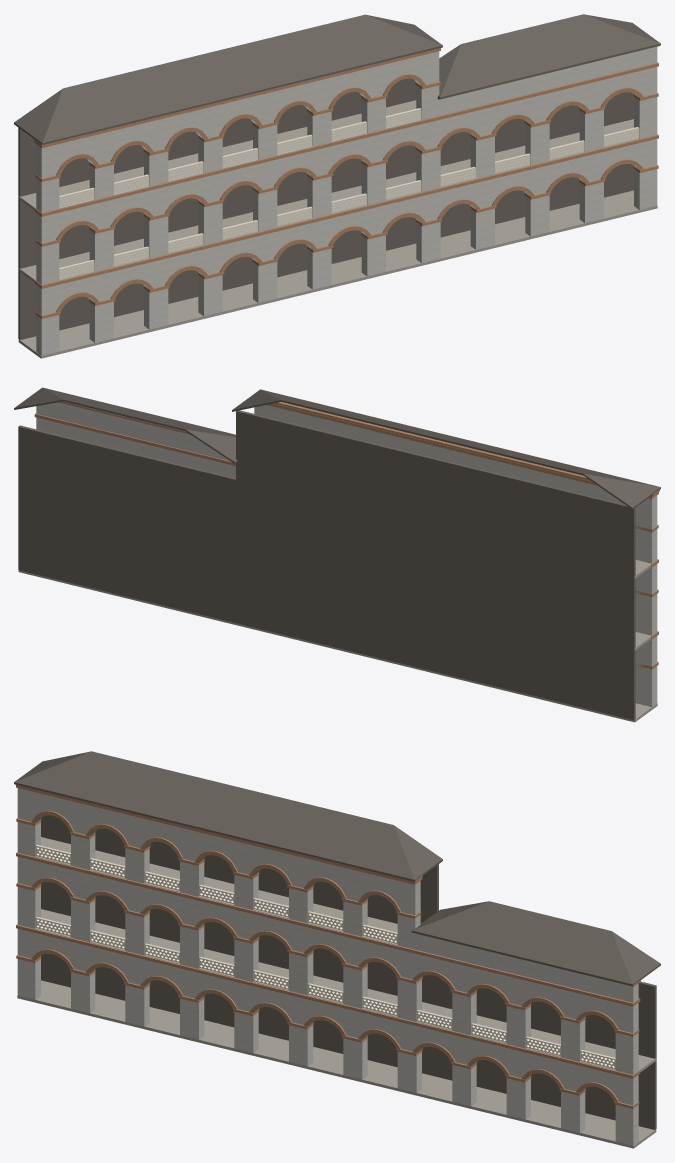
Rendered from lod-source.glb.
The picture shows the model from 3 angles, top to bottom: view 1: azimuth 30°, elevation 25°; view 2: azimuth 150°, elevation 25°; view 3: azimuth 330°, elevation 25°; orthographic projection.
Visible parts, largest first — view 1: 圣约翰大学思颜堂四十号楼草坪前廊; view 2: 圣约翰大学思颜堂四十号楼草坪前廊; view 3: 圣约翰大学思颜堂四十号楼草坪前廊.
Boxes of the visible parts, x1,y1,x2,y2 form: 圣约翰大学思颜堂四十号楼草坪前廊: [14, 14, 660, 358]; 圣约翰大学思颜堂四十号楼草坪前廊: [14, 387, 660, 722]; 圣约翰大学思颜堂四十号楼草坪前廊: [14, 751, 660, 1148].
Size of the model in its own units: 43.02 by 15.92 by 3.42.
6 materials, 2 textured.
